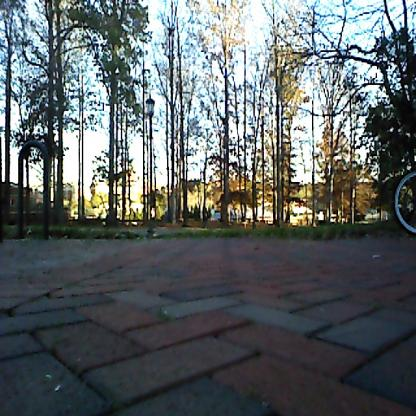Sidewalk: (0, 236, 416, 416)
